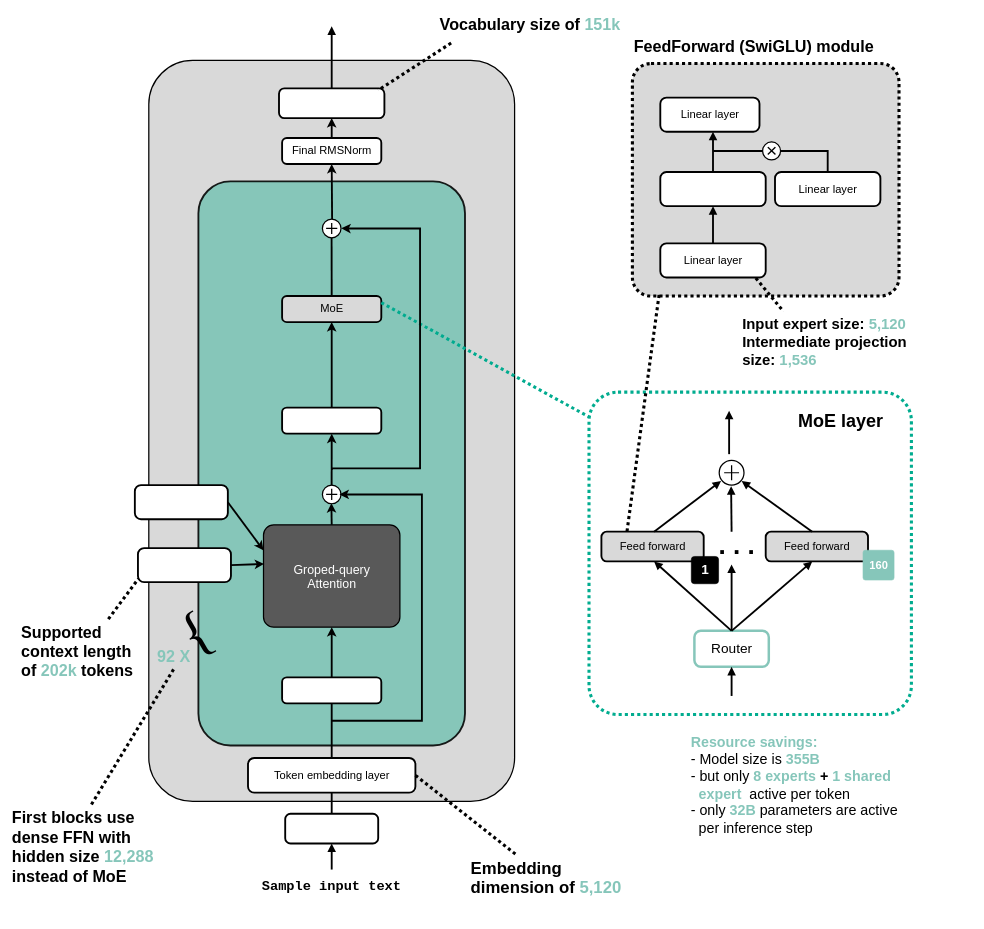
The diagram is 984 pixels wide and 929 high, and some of its shapes have lost their labels. Here are the shapes that lost their labels. From the top down, the box of each, then its label:
(278, 87, 385, 119): Linear output layer
(659, 171, 766, 207): SiLU activation
(281, 406, 382, 434): RMSNorm 2
(134, 484, 228, 520): QKNorm
(137, 547, 232, 583): RoPE
(281, 676, 382, 704): RMSNorm 1
(284, 813, 379, 844): Tokenized text
